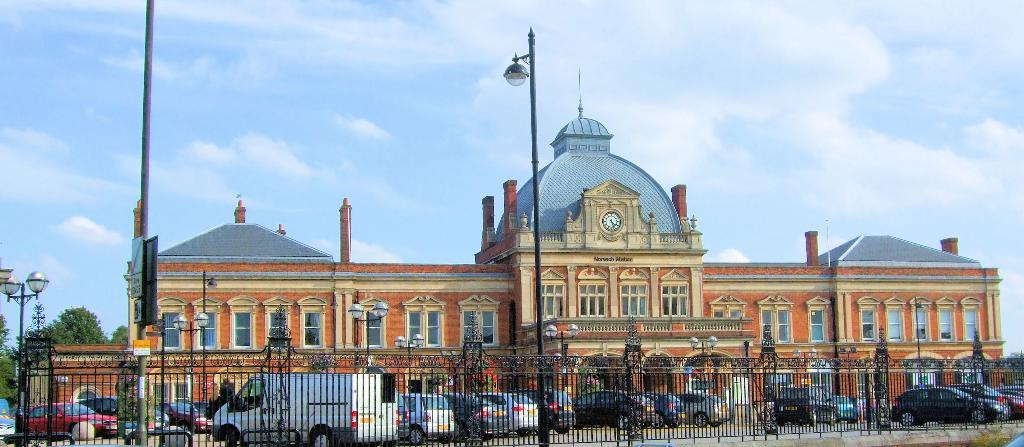Car: (394, 386, 732, 446), (0, 399, 212, 445), (894, 376, 999, 431), (775, 388, 840, 424), (967, 385, 1023, 418), (833, 395, 857, 422)
